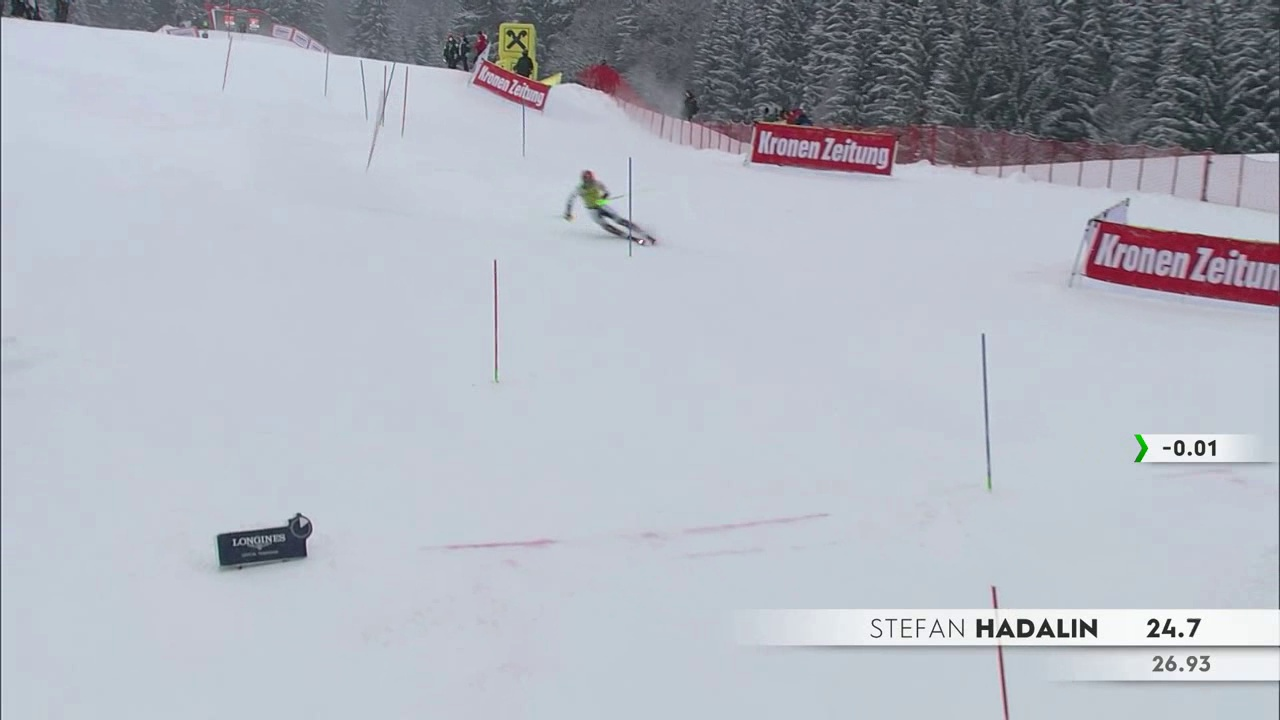kronenzeitung: (1096, 240, 1279, 304), (761, 130, 887, 173), (474, 70, 549, 105)
longines: (222, 531, 292, 563)
raiffeisen: (501, 25, 534, 55)
